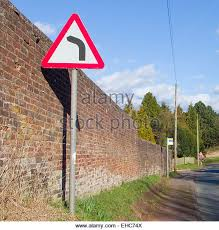Bend_to_left: (39, 13, 105, 70)
